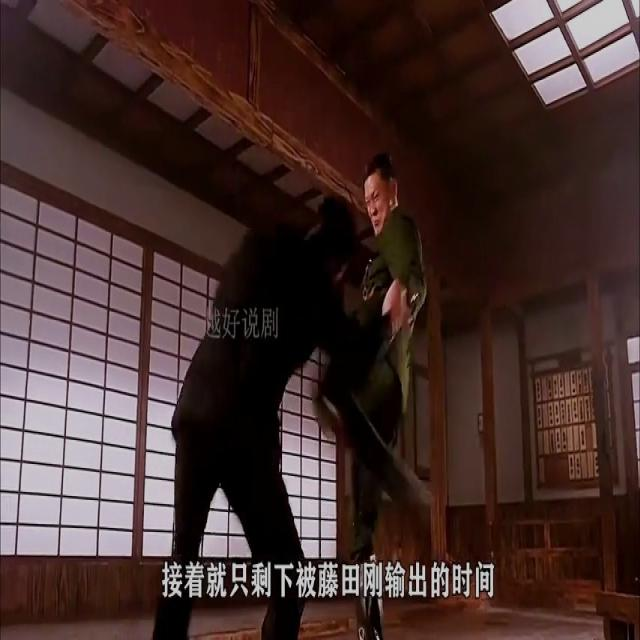fight: (160, 145, 450, 639)
